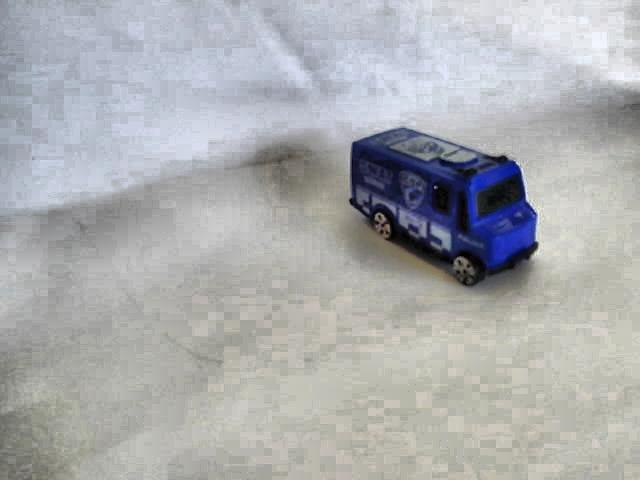police car: (351, 132, 541, 277)
